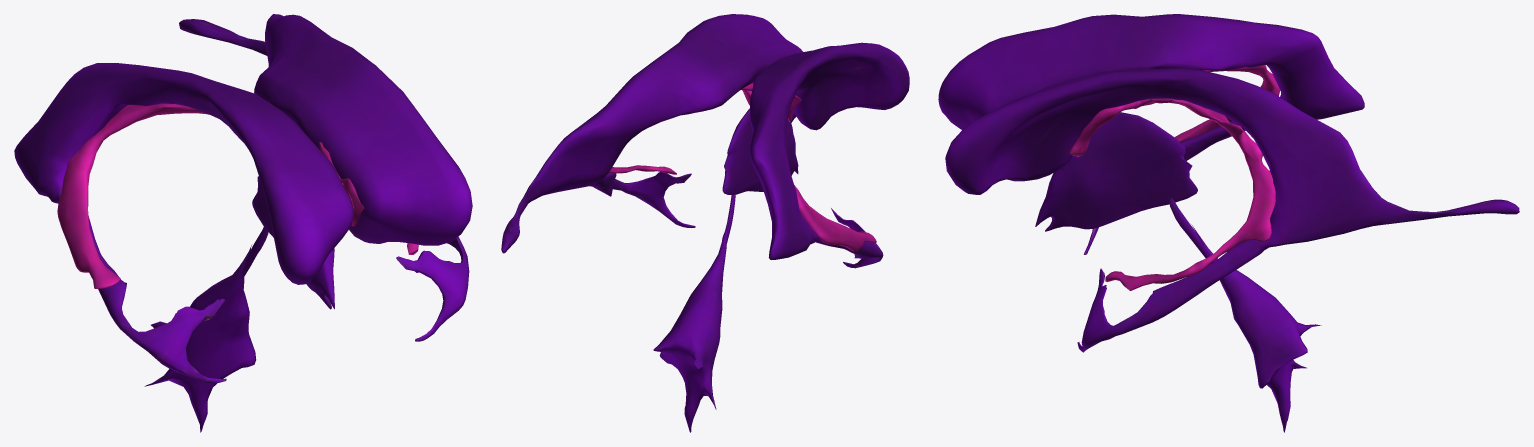
Rendered from ventricles.glb.
3 renders of one model, left to right at view 1: azimuth 30°, elevation 25°; view 2: azimuth 150°, elevation 25°; view 3: azimuth 270°, elevation 25°, orthographic. The views are drawn at different scales.
Visible parts, largest first — view 1: Left_lateral_ventricle, Right_lateral_ventricle, Fourth_ventricle, Right_choroid_plexus, Third_ventricle, Left_choroid_plexus; view 2: Left_lateral_ventricle, Right_lateral_ventricle, Fourth_ventricle, Third_ventricle, Right_choroid_plexus, Left_choroid_plexus; view 3: Left_lateral_ventricle, Right_lateral_ventricle, Third_ventricle, Fourth_ventricle, Left_choroid_plexus, Right_choroid_plexus, Cerebral_aqueduct.
Part boxes in pixels (x1=…): Left_lateral_ventricle: x1=179, y1=14, x2=472, y2=341; Right_lateral_ventricle: x1=14, y1=63, x2=353, y2=383; Fourth_ventricle: x1=144, y1=245, x2=256, y2=432; Right_choroid_plexus: x1=57, y1=103, x2=353, y2=288; Third_ventricle: x1=252, y1=176, x2=334, y2=309; Left_choroid_plexus: x1=319, y1=142, x2=418, y2=254; Left_lateral_ventricle: x1=501, y1=14, x2=802, y2=253; Right_lateral_ventricle: x1=750, y1=42, x2=909, y2=268; Fourth_ventricle: x1=653, y1=220, x2=729, y2=432; Third_ventricle: x1=722, y1=108, x2=798, y2=194; Right_choroid_plexus: x1=788, y1=95, x2=876, y2=251; Left_choroid_plexus: x1=609, y1=82, x2=753, y2=174; Left_lateral_ventricle: x1=945, y1=67, x2=1519, y2=352; Right_lateral_ventricle: x1=938, y1=14, x2=1364, y2=254; Third_ventricle: x1=1035, y1=112, x2=1197, y2=231; Fourth_ventricle: x1=1191, y1=224, x2=1321, y2=432; Left_choroid_plexus: x1=1069, y1=98, x2=1275, y2=290; Right_choroid_plexus: x1=1174, y1=65, x2=1280, y2=142; Cerebral_aqueduct: x1=1169, y1=198, x2=1208, y2=257.
Size of the model in its own units: 0.0636 by 0.0736 by 0.0983.
9 materials, 9 textured.
